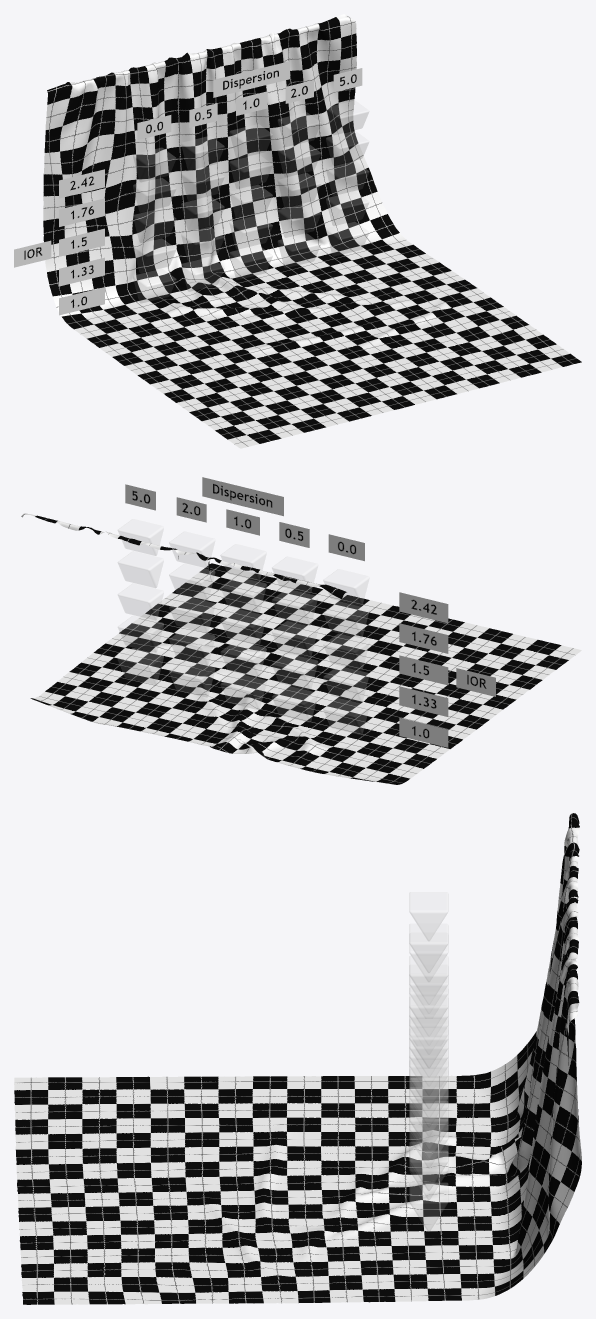
The model's file is DispersionTest.glb.
The picture shows the model from 3 angles, top to bottom: view 1: azimuth 30°, elevation 25°; view 2: azimuth 150°, elevation 25°; view 3: azimuth 270°, elevation 25°; orthographic projection. The views are drawn at different scales.
Visible parts, largest first — view 1: Cloth Backdrop, IOR Labels, Prism_IOR1.50_D1, Prism_IOR1.0_D2, Prism_IOR1.33_D1, Prism_IOR1.76_D3, Prism_IOR2.42_D4, Prism_IOR1.33_D2, Prism_IOR1.50_D2, Prism_IOR1.50_D4, Prism_IOR1.76_D2, Prism_IOR2.42_D3 (+15 smaller); view 2: Cloth Backdrop, IOR Labels, Prism_IOR1.50_D4, Prism_IOR1.0_D3, Prism_IOR1.33_D1, Prism_IOR1.33_D2, Prism_IOR1.33_D3, Prism_IOR1.33_D5, Prism_IOR1.76_D3, Prism_IOR1.0_D1, Prism_IOR1.0_D2, Prism_IOR1.33_D4 (+15 smaller); view 3: Cloth Backdrop, Prism_IOR2.42_D3, Prism_IOR2.42_D4, Prism_IOR2.42_D5, Prism_IOR1.76_D5, Prism_IOR1.50_D5, Prism_IOR2.42_D1, Prism_IOR1.33_D5, Prism_IOR1.0_D5, Prism_IOR2.42_D2, Prism_IOR1.50_D4, Prism_IOR1.76_D4 (+5 smaller).
Part boxes in pixels (box(x1,y1,x2,y2)): Cloth Backdrop: box(43, 14, 581, 448); IOR Labels: box(14, 61, 362, 315); Prism_IOR1.50_D1: box(133, 208, 175, 242); Prism_IOR1.0_D2: box(181, 257, 224, 291); Prism_IOR1.33_D1: box(133, 239, 175, 272); Prism_IOR1.76_D3: box(229, 154, 272, 188); Prism_IOR2.42_D4: box(278, 112, 320, 146); Prism_IOR1.33_D2: box(181, 227, 224, 260); Prism_IOR1.50_D2: box(181, 197, 224, 230); Prism_IOR1.50_D4: box(278, 173, 320, 207); Prism_IOR1.76_D2: box(181, 166, 224, 200); Prism_IOR2.42_D3: box(229, 124, 272, 158); Cloth Backdrop: box(21, 513, 581, 784); IOR Labels: box(125, 477, 495, 747); Prism_IOR1.50_D4: box(169, 596, 214, 632); Prism_IOR1.0_D3: box(220, 673, 266, 709); Prism_IOR1.33_D1: box(323, 666, 369, 702); Prism_IOR1.33_D2: box(272, 653, 317, 689); Prism_IOR1.33_D3: box(221, 641, 266, 677); Prism_IOR1.33_D5: box(118, 616, 163, 652); Prism_IOR1.76_D3: box(221, 576, 266, 612); Prism_IOR1.0_D1: box(323, 698, 369, 734); Prism_IOR1.0_D2: box(272, 686, 317, 722); Prism_IOR1.33_D4: box(169, 628, 214, 664); Cloth Backdrop: box(14, 813, 581, 1304); Prism_IOR2.42_D3: box(409, 955, 448, 1004); Prism_IOR2.42_D4: box(409, 987, 448, 1035); Prism_IOR2.42_D5: box(409, 1019, 448, 1067); Prism_IOR1.76_D5: box(409, 1060, 448, 1108); Prism_IOR1.50_D5: box(409, 1101, 448, 1149); Prism_IOR2.42_D1: box(409, 892, 448, 940); Prism_IOR1.33_D5: box(409, 1142, 448, 1190); Prism_IOR1.0_D5: box(409, 1183, 448, 1231); Prism_IOR2.42_D2: box(409, 924, 448, 972); Prism_IOR1.50_D4: box(409, 1069, 448, 1117); Prism_IOR1.76_D4: box(409, 1028, 448, 1076).
Size of the model in its own units: 0.2165 by 0.1117 by 0.1889.
Materials: 27 (2 with a texture image).
